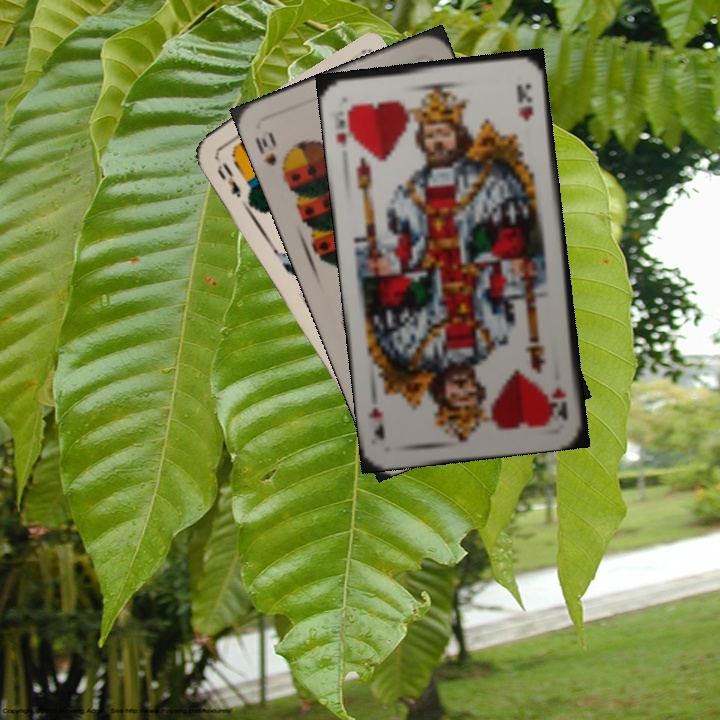EO: (212, 158, 244, 200)
HK: (331, 100, 358, 150), (547, 384, 571, 423)
S10: (251, 128, 291, 179)
